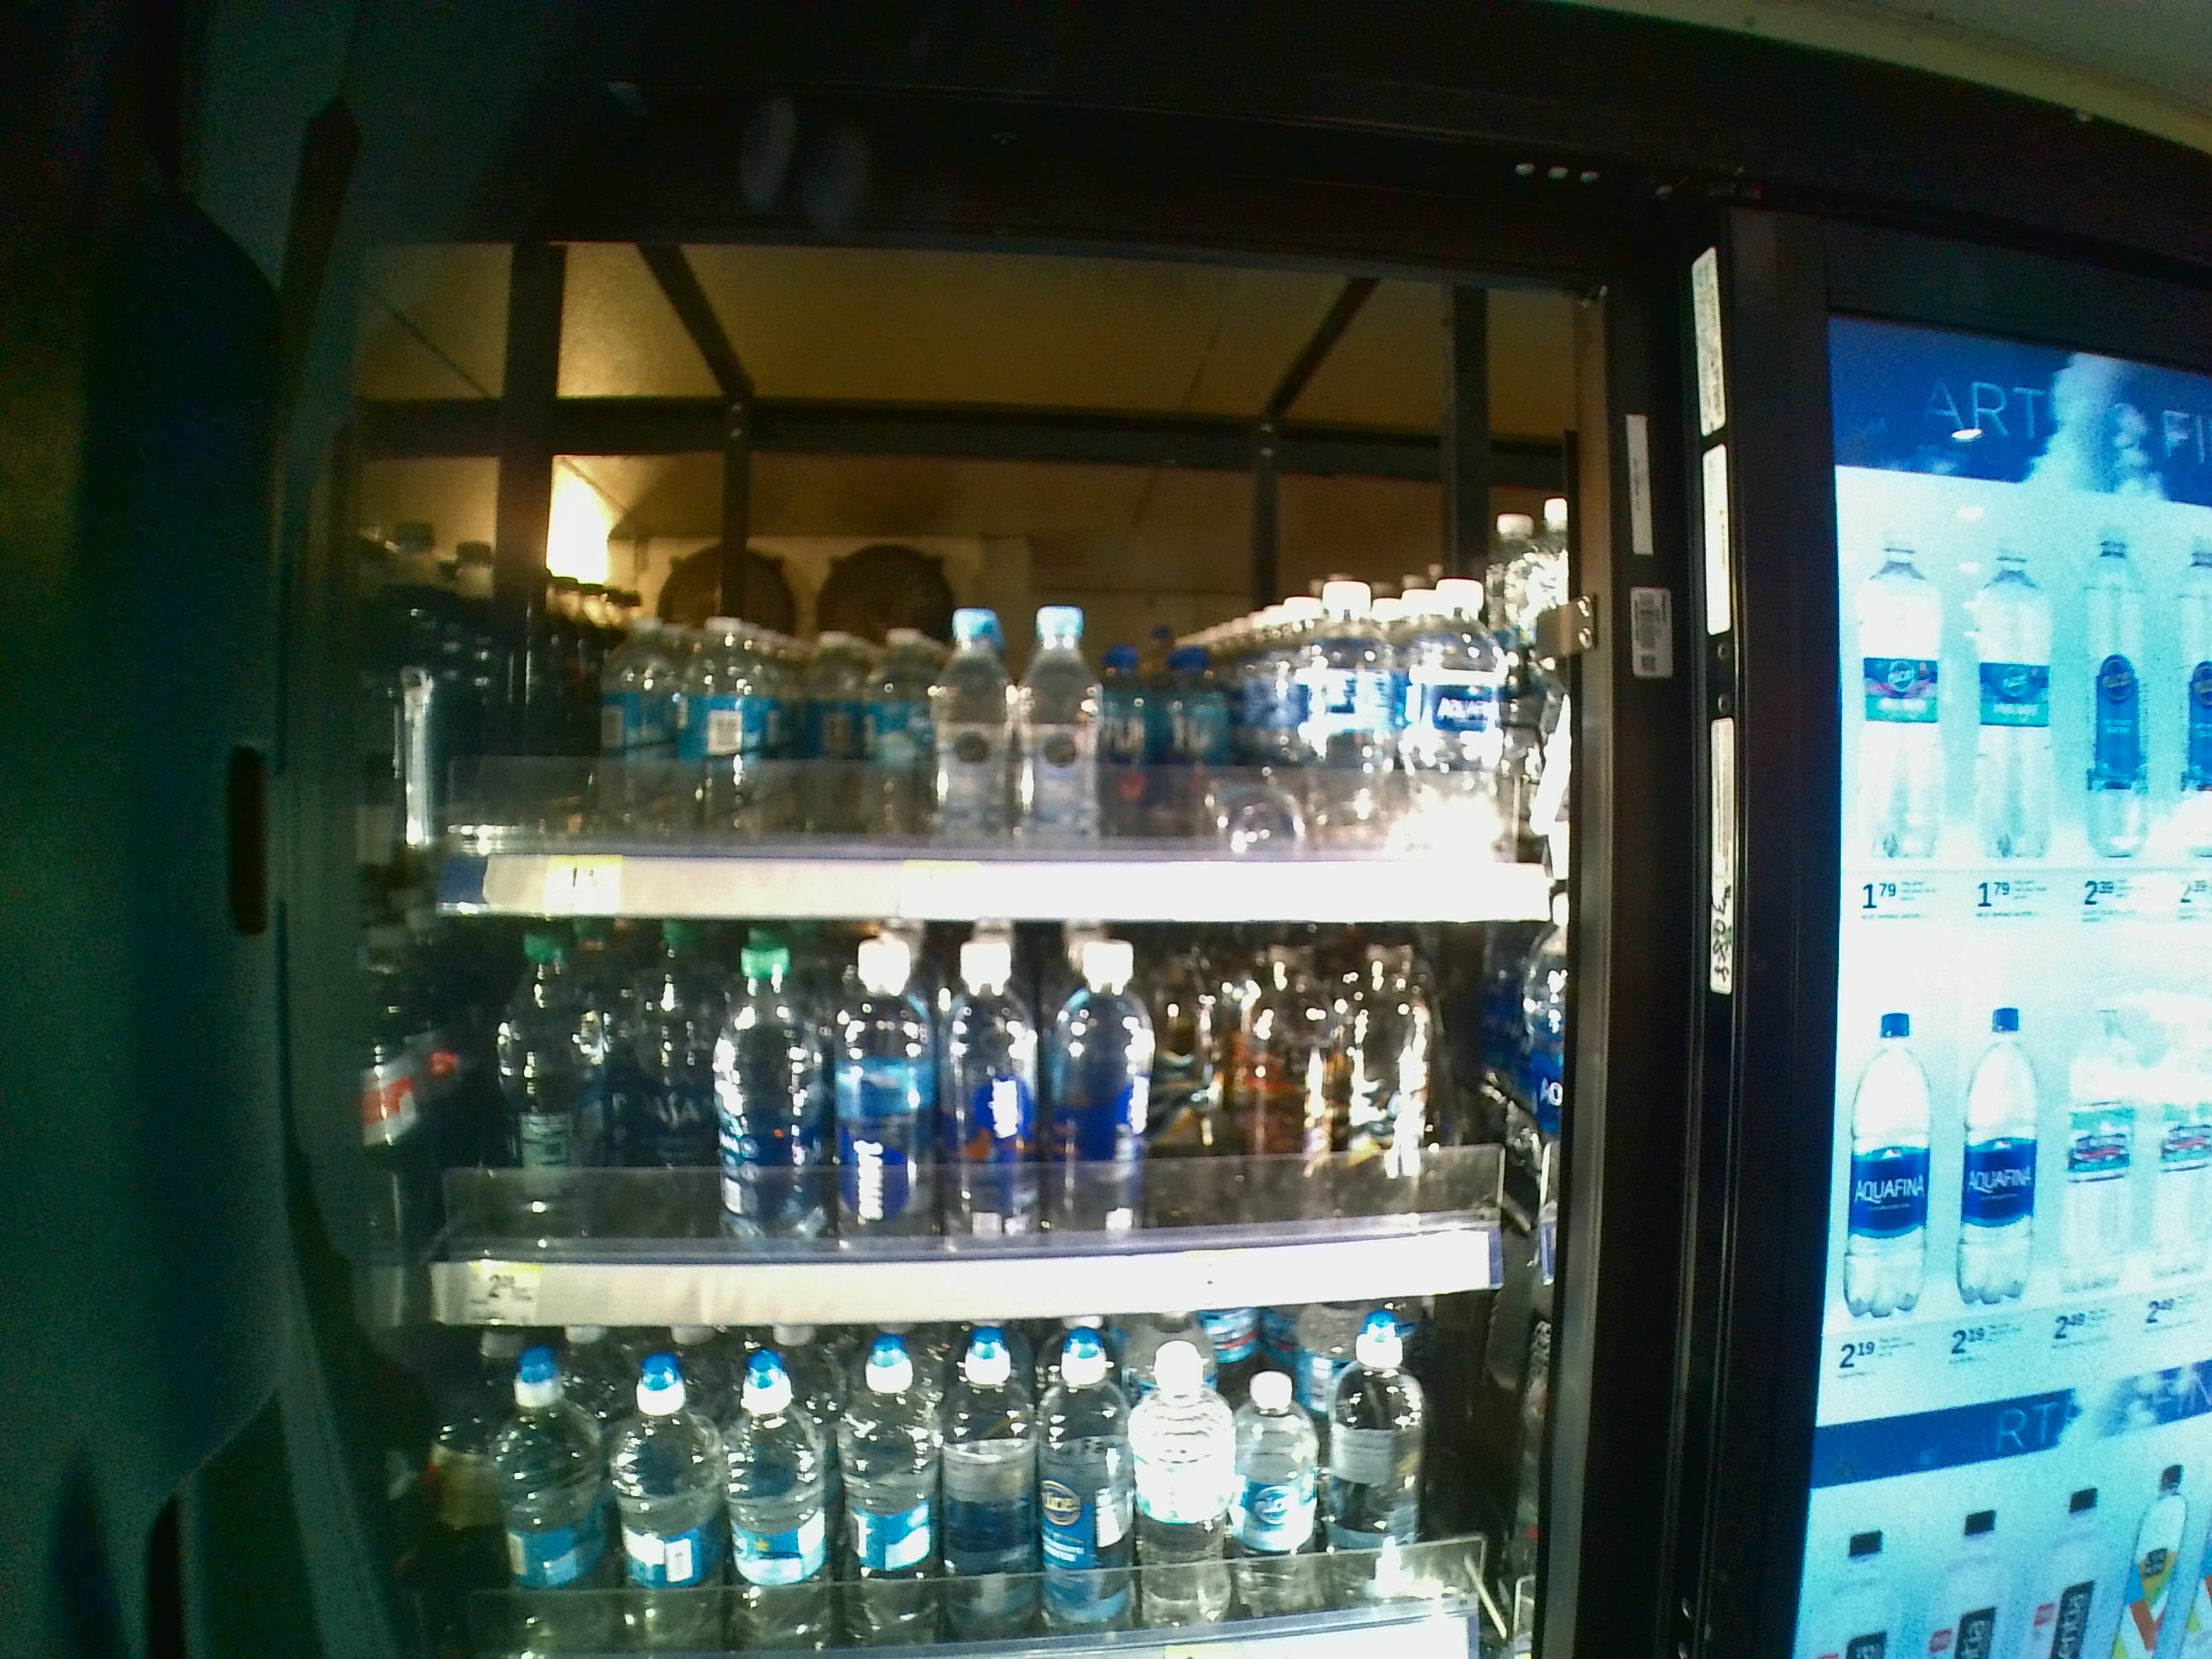shelf: (350, 420, 1575, 917), (354, 915, 1578, 1338)
